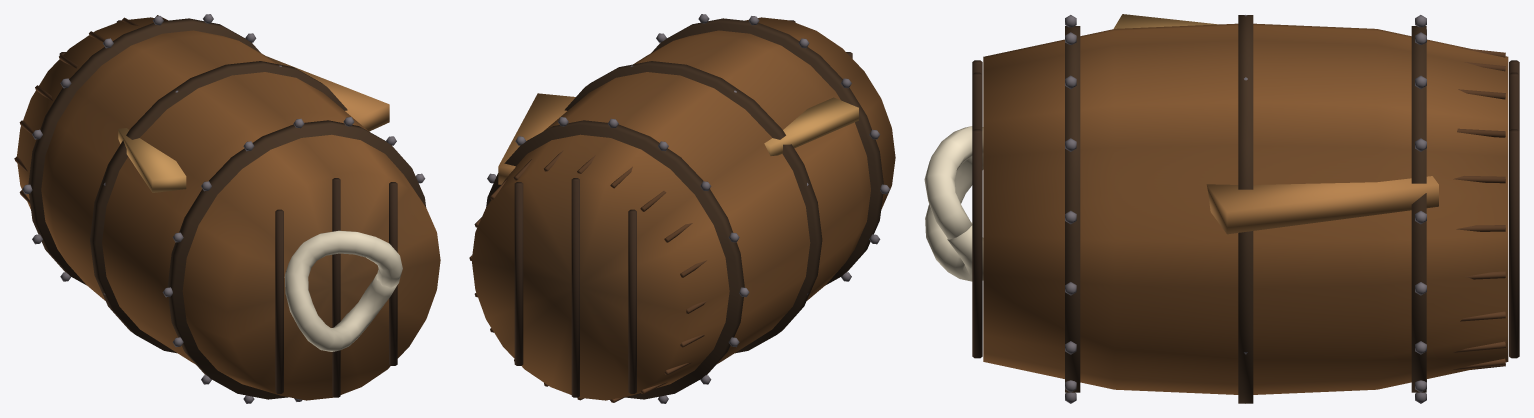
The model's file is objeto-barril.glb.
3 renders of one model, left to right at view 1: azimuth 30°, elevation 25°; view 2: azimuth 150°, elevation 25°; view 3: azimuth 270°, elevation 25°, orthographic. The views are drawn at different scales.
Visible parts, largest first — view 1: Barrel, Rope; view 2: Barrel; view 3: Barrel, Rope.
Part boxes in pixels (box(x1,y1,x2,y2)): Barrel: box(14, 14, 440, 403); Rope: box(284, 230, 402, 351); Barrel: box(469, 14, 895, 403); Barrel: box(972, 14, 1519, 403); Rope: box(924, 126, 983, 281).
Size of the model in its own units: 0.6988 by 0.6558 by 1.
